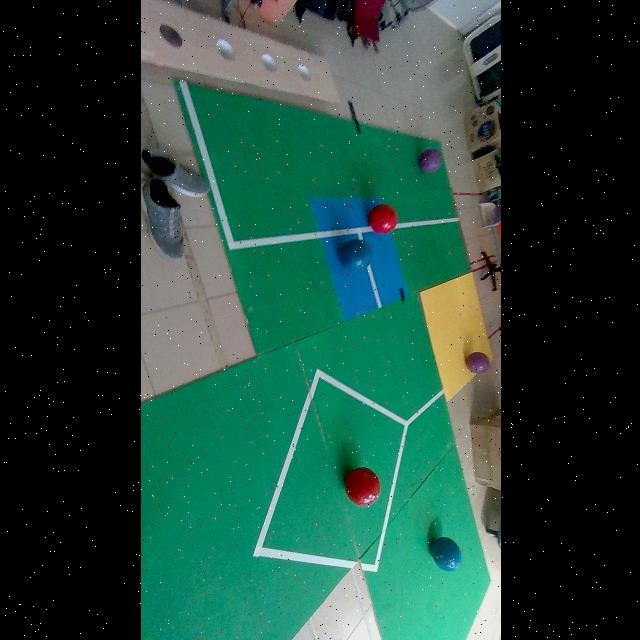B: (430, 536, 461, 572), (338, 240, 371, 270)
P: (418, 149, 440, 172), (466, 352, 489, 373)
R: (344, 467, 379, 506), (367, 204, 397, 234)
